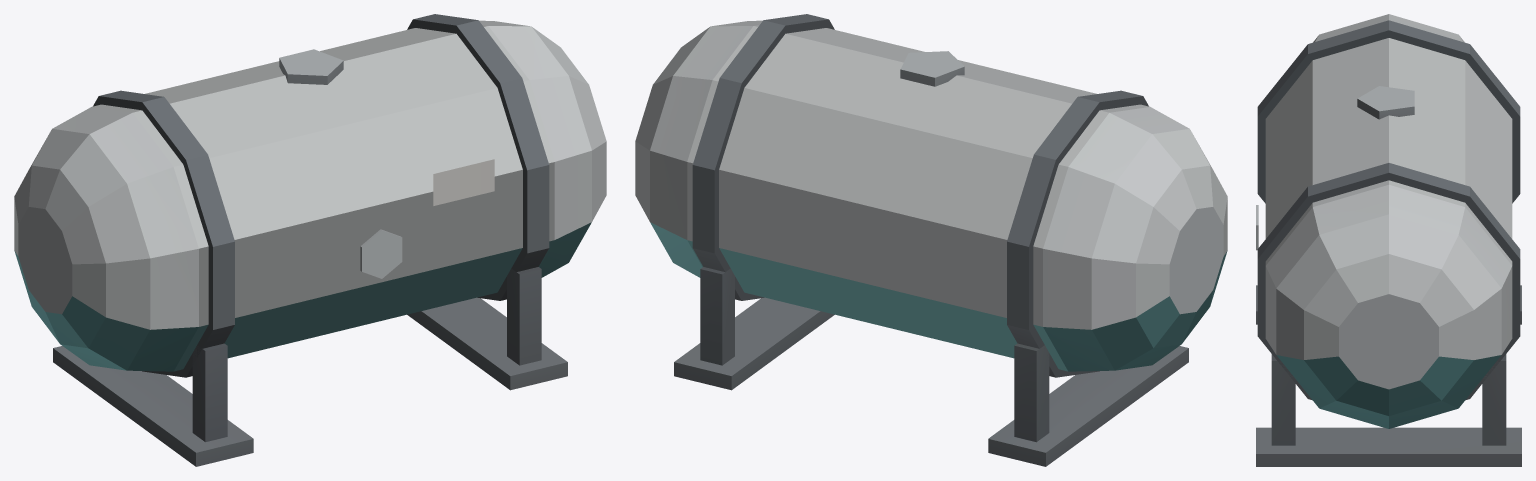
File: htank.lod1.glb
3 renders of one model, left to right at view 1: azimuth 30°, elevation 25°; view 2: azimuth 150°, elevation 25°; view 3: azimuth 270°, elevation 25°, orthographic. The views are drawn at different scales.
Bounding box in the file's own units: 4.32 × 2.4 × 2.02.
